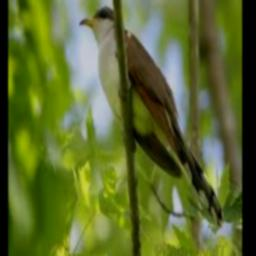Cuckoo: (79, 6, 223, 223)
